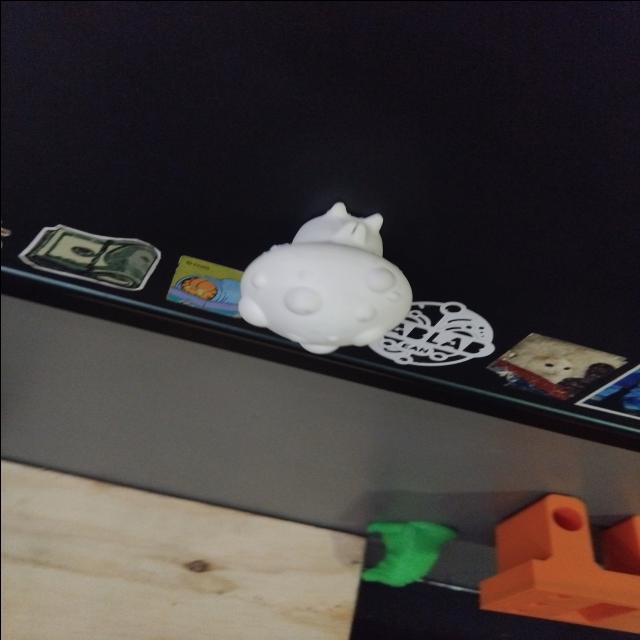Hongo: (254, 200, 421, 354)
